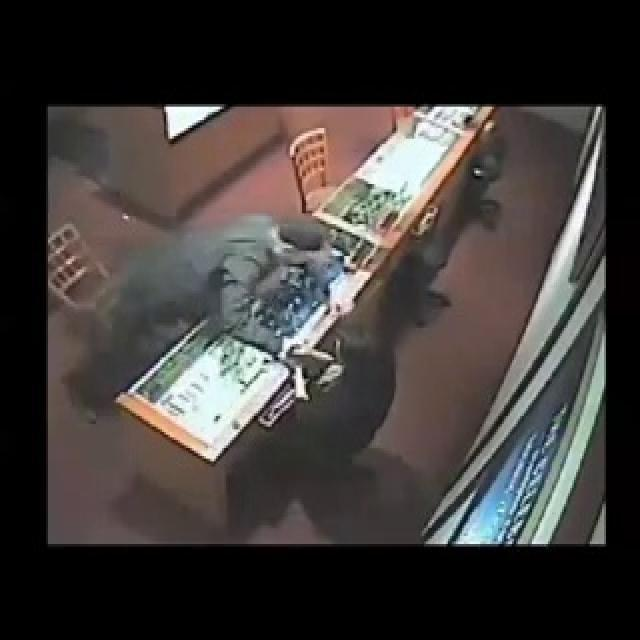Shoplifting: (156, 168, 428, 457)
